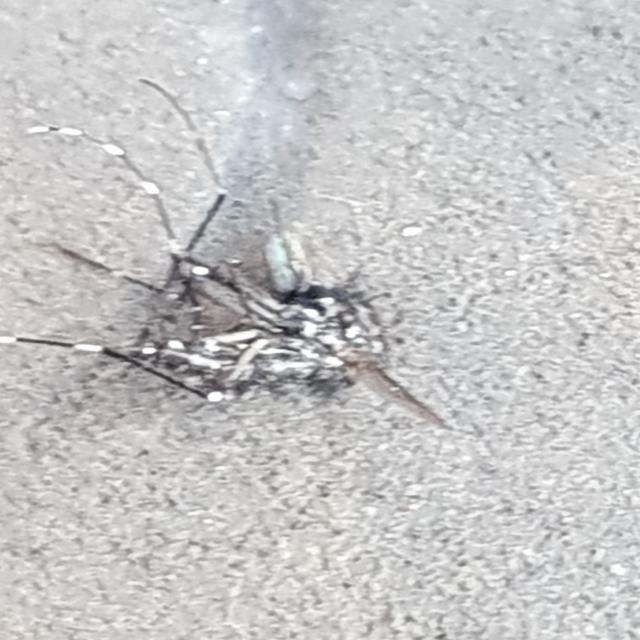albopictus: (0, 59, 410, 427)
